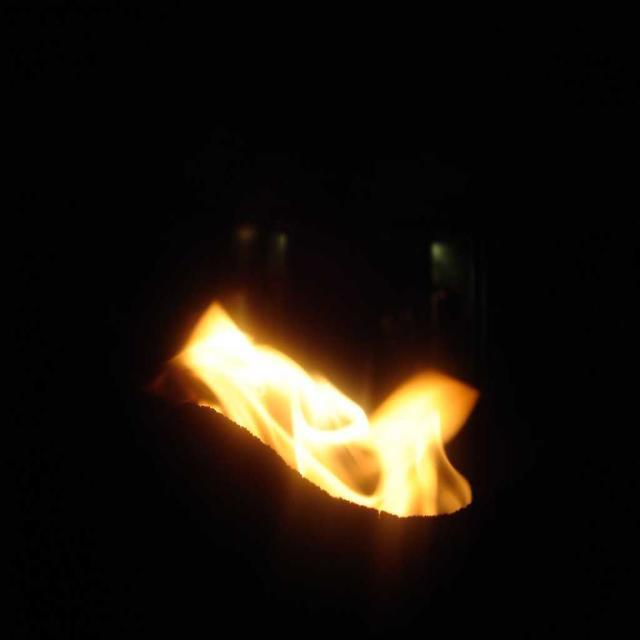Fire: (161, 292, 477, 520)
